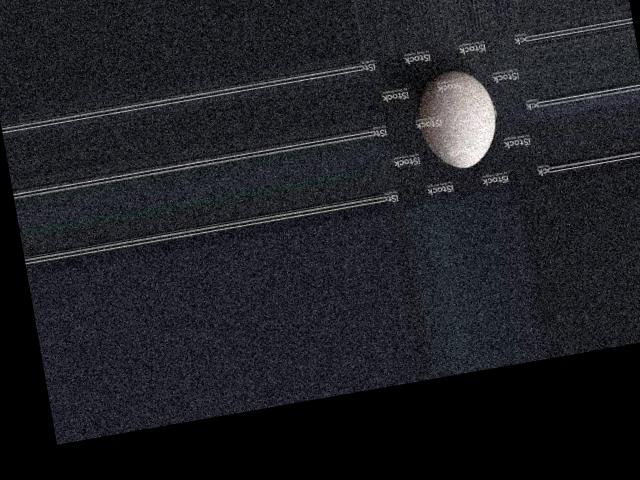egg: (411, 64, 502, 173)
